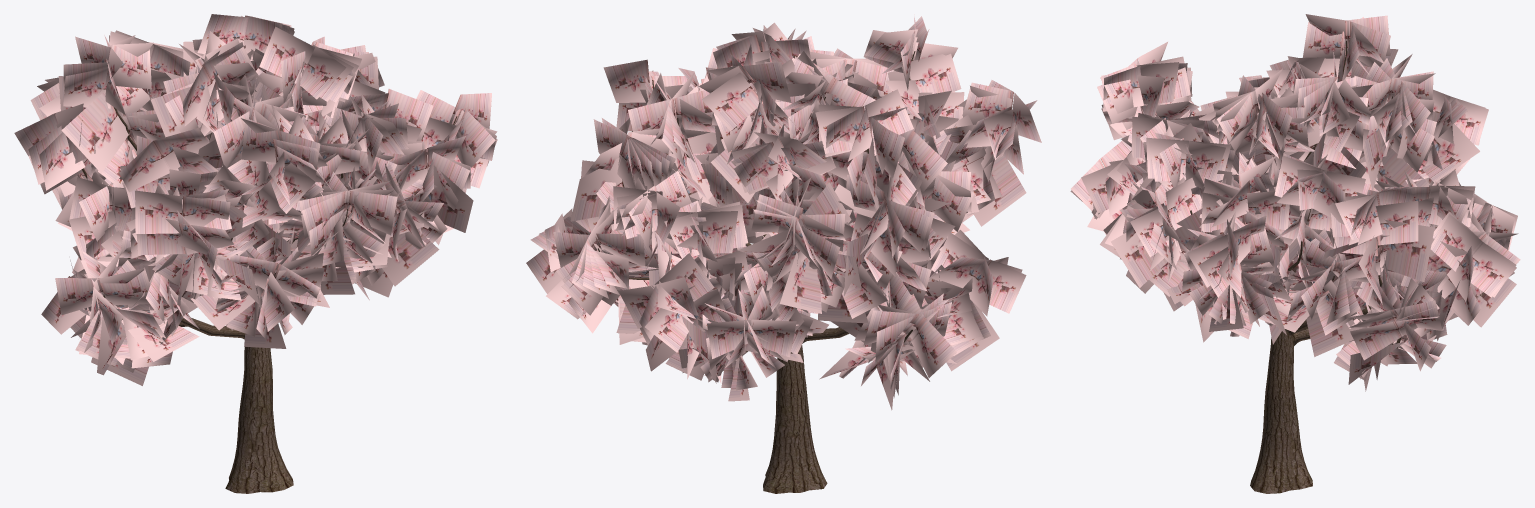
File: sakura_tree_01_-_low_poly_model.glb
The picture shows the model from 3 angles, left to right: view 1: azimuth 30°, elevation 25°; view 2: azimuth 150°, elevation 25°; view 3: azimuth 270°, elevation 25°; orthographic projection. The views are drawn at different scales.
Visible parts, largest first — view 1: Sakura_Sakura_Mat_0, Sakura_Bark001_2K_JPG_Mat_0; view 2: Sakura_Sakura_Mat_0, Sakura_Bark001_2K_JPG_Mat_0; view 3: Sakura_Sakura_Mat_0, Sakura_Bark001_2K_JPG_Mat_0.
Part boxes in pixels (x1,y1,x2,y2): Sakura_Sakura_Mat_0: [14, 14, 497, 385]; Sakura_Bark001_2K_JPG_Mat_0: [81, 87, 457, 493]; Sakura_Sakura_Mat_0: [526, 14, 1041, 410]; Sakura_Bark001_2K_JPG_Mat_0: [598, 51, 927, 493]; Sakura_Sakura_Mat_0: [1070, 14, 1520, 391]; Sakura_Bark001_2K_JPG_Mat_0: [1190, 41, 1401, 493].
Bounding box in the file's own units: 0.4036 × 0.4172 × 0.4016.
Materials: 2 (2 with a texture image).
